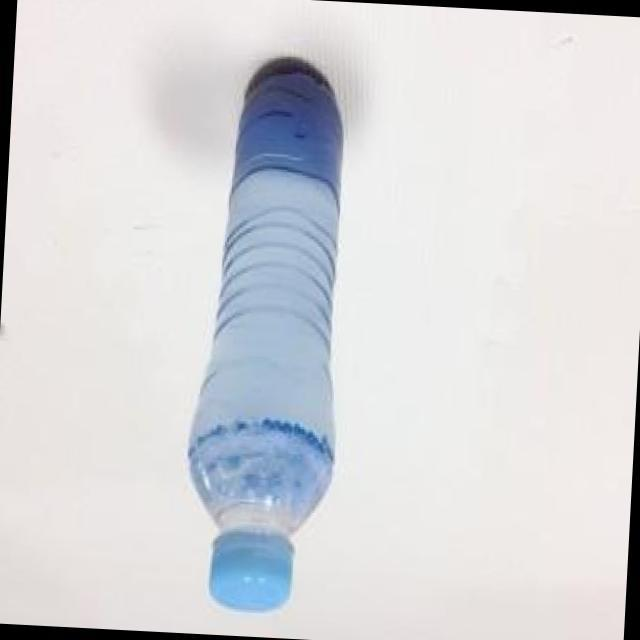good: (174, 31, 384, 634)
